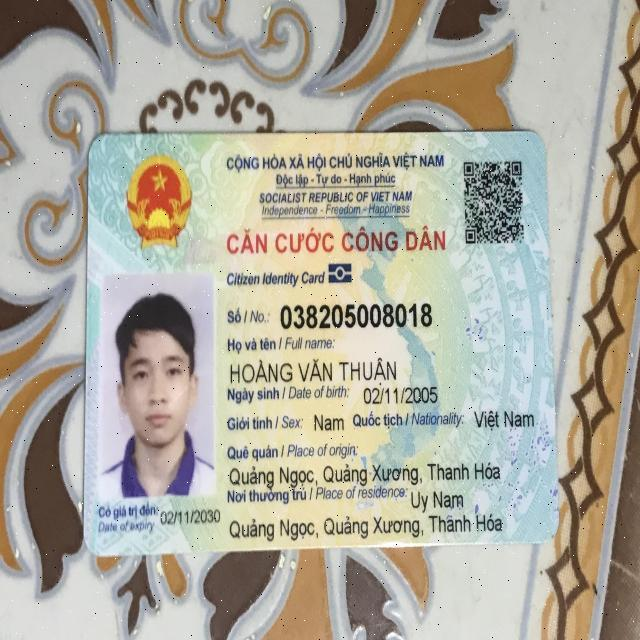current_place: (229, 511, 503, 542), (407, 485, 465, 513)
dob: (360, 381, 440, 409)
expire_date: (157, 503, 228, 530)
gender: (310, 404, 351, 439)
id: (278, 293, 434, 334)
name: (228, 351, 400, 386)
nationality: (471, 404, 535, 432)
origin_place: (229, 459, 502, 490)
